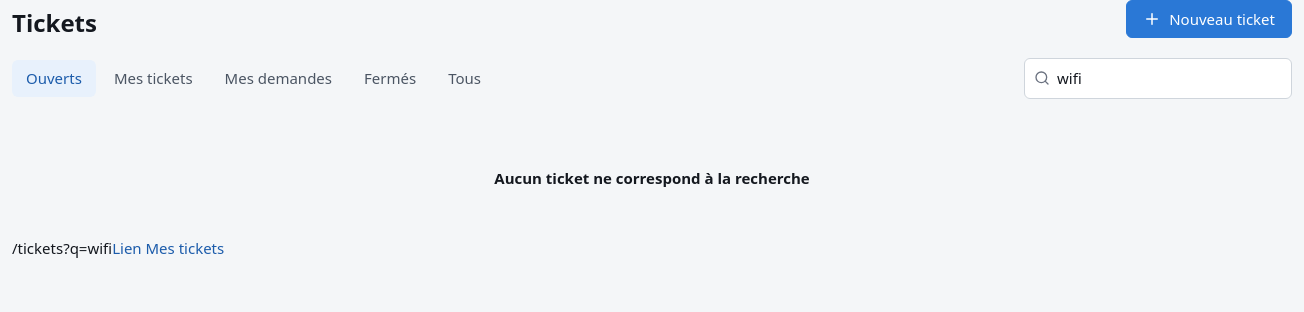
Test case: TicketsPage › vide le champ quand on navigue vers une vue sans recherche
Click the link "Lien Mes tickets". click: (168, 248)
box: x1=112 y1=238 x2=224 y2=258
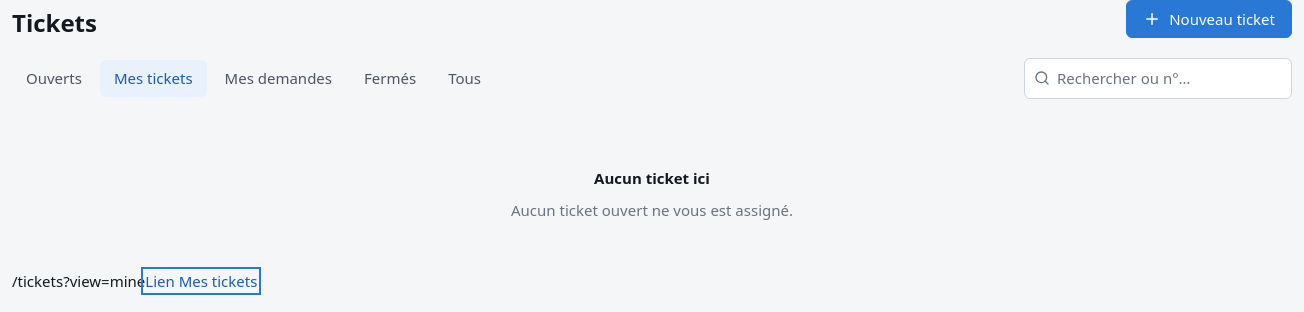
Expected: the search field named "Rechercher un ticket" is empty, x1=1024 y1=58 x2=1292 y2=98
Expected: the text with test id "location" reads "/tickets?view=mine", x1=12 y1=270 x2=145 y2=290
